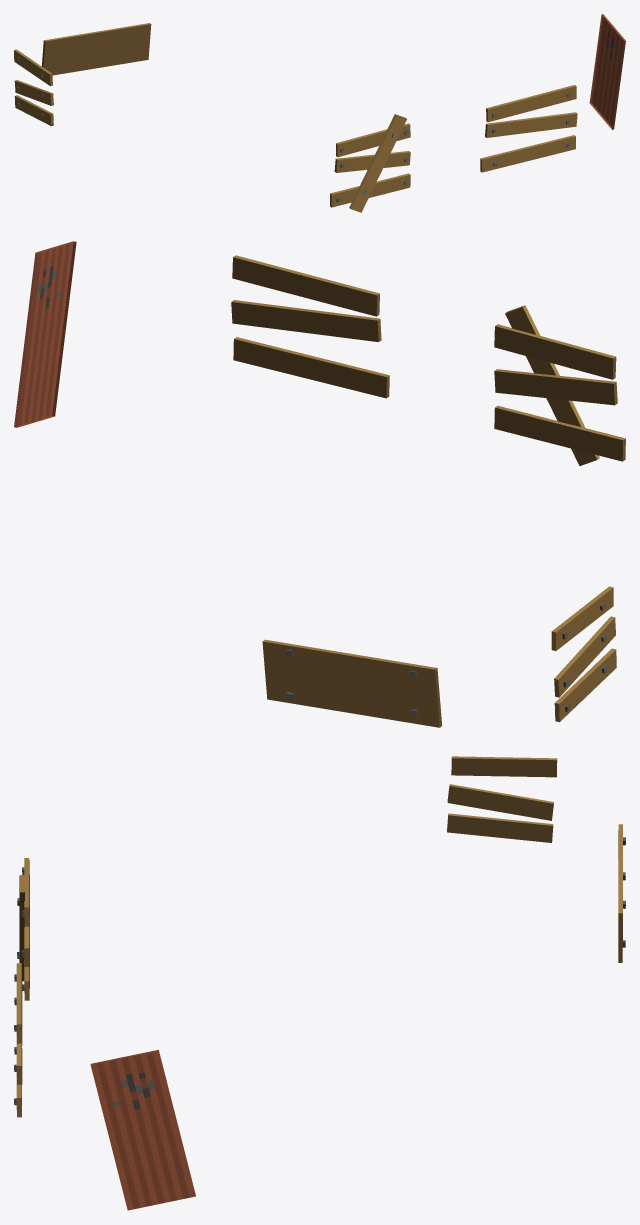
Rendered from SA_Bld_HouseMedium_Extras_01.gltf.
3 views of the same model, one above another, from view 1: azimuth 30°, elevation 25°; view 2: azimuth 150°, elevation 25°; view 3: azimuth 270°, elevation 25° (orthographic). The views are drawn at different scales.
Parts seen in each view (by area): view 1: SA_Bld_HouseMedium_Extras_01; view 2: SA_Bld_HouseMedium_Extras_01; view 3: SA_Bld_HouseMedium_Extras_01.
Part boxes in pixels (x1,y1,x2,y2): SA_Bld_HouseMedium_Extras_01: (14, 14, 625, 212); SA_Bld_HouseMedium_Extras_01: (14, 241, 625, 727); SA_Bld_HouseMedium_Extras_01: (14, 756, 625, 1210).
Size of the model in its own units: 16.05 by 3.62 by 12.6.
Materials: 1 (1 with a texture image).
